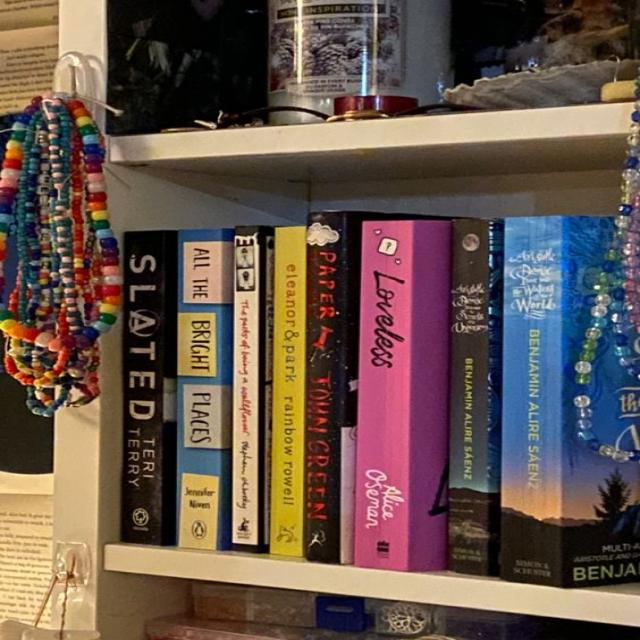book: (497, 215, 566, 586), (354, 220, 415, 570), (301, 209, 345, 567), (446, 219, 489, 577), (120, 231, 168, 547), (179, 229, 224, 548), (270, 226, 308, 557), (230, 224, 264, 552)
